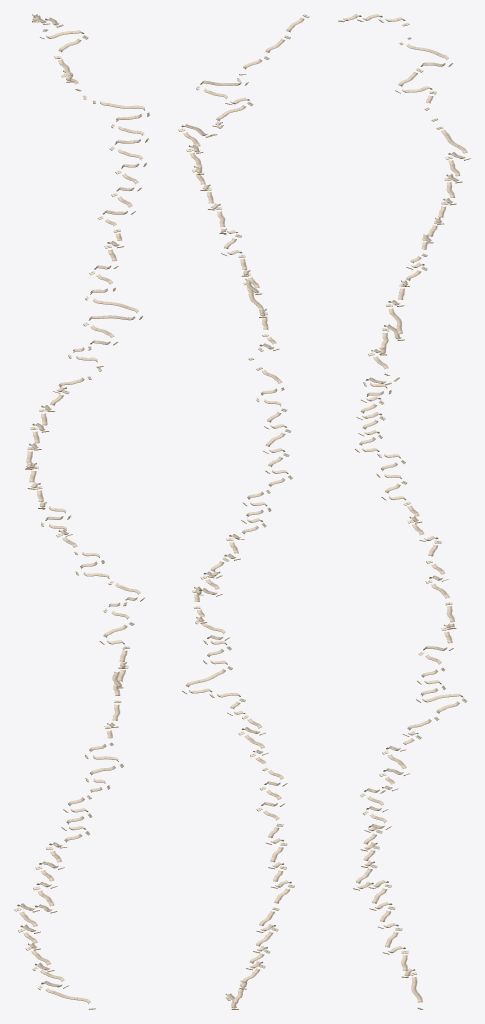
The model's file is C-route-v027-04.glb.
3 renders of one model, left to right at view 1: azimuth 30°, elevation 25°; view 2: azimuth 150°, elevation 25°; view 3: azimuth 330°, elevation 25°, orthographic. The views are drawn at different scales.
Size of the model in its own units: 0.4726 by 3.77 by 0.4196.
Materials: 5 (1 with a texture image).
